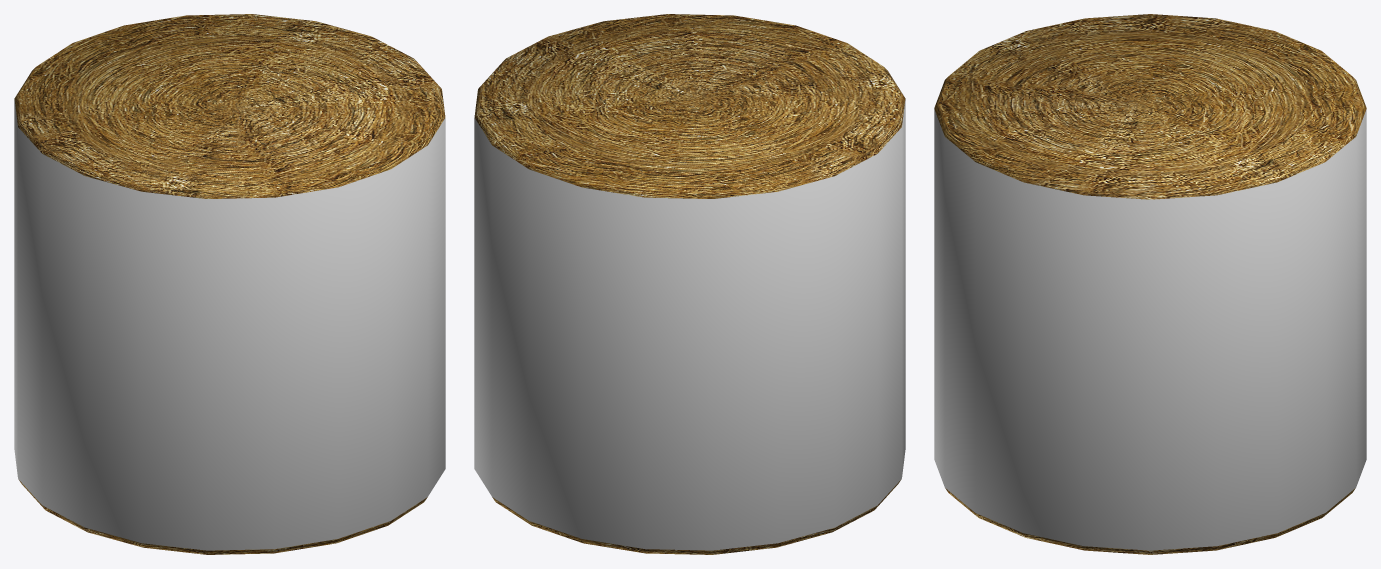
The model's file is Straw1.fbx.
The picture shows the model from 3 angles, left to right: view 1: azimuth 30°, elevation 25°; view 2: azimuth 150°, elevation 25°; view 3: azimuth 270°, elevation 25°; orthographic projection.
Visible parts, largest first — view 1: pCylinder1; view 2: pCylinder1; view 3: pCylinder1.
Part boxes in pixels (x1,y1,x2,y2): pCylinder1: (14,14,445,554); pCylinder1: (474,14,905,554); pCylinder1: (934,14,1366,554).
Size of the model in its own units: 4.78 by 4.41 by 4.78.
